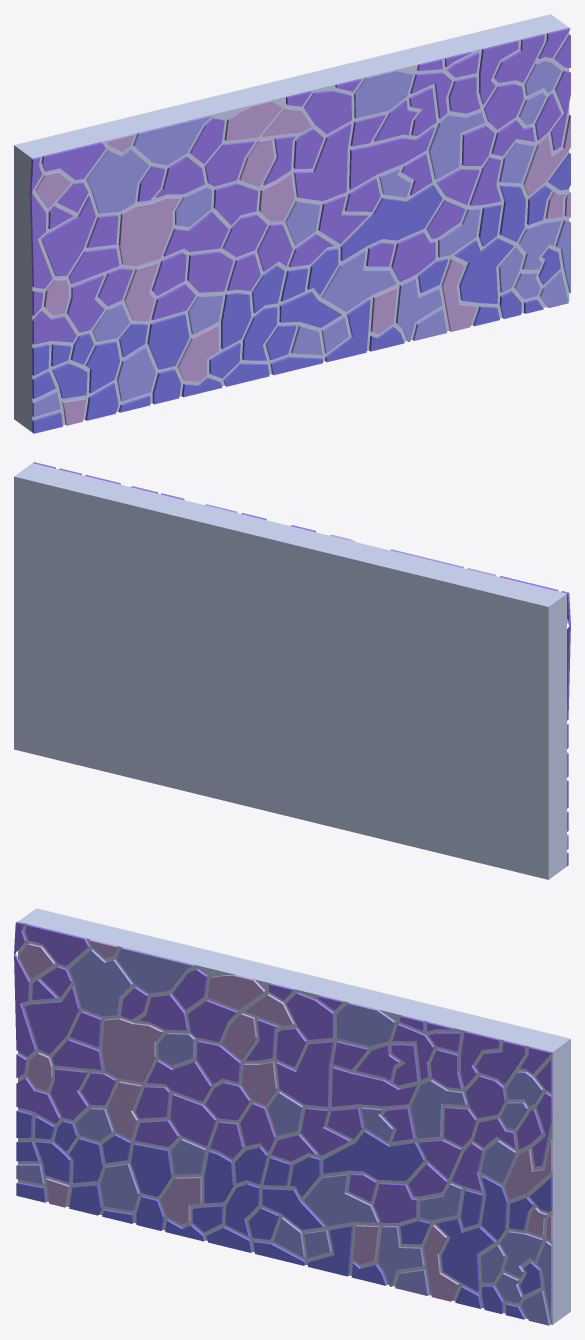
File: MOR_TEP_PAREDES_01_LADRILLOS.fbx
3 renders of one model, top to bottom at view 1: azimuth 30°, elevation 25°; view 2: azimuth 150°, elevation 25°; view 3: azimuth 330°, elevation 25°, orthographic.
Parts seen in each view (by area): view 1: MOR_TEP_PAREDES_01_LADRILLOS_LOD0; view 2: MOR_TEP_PAREDES_01_LADRILLOS_LOD0; view 3: MOR_TEP_PAREDES_01_LADRILLOS_LOD0.
Boxes of the visible parts, <box> form: MOR_TEP_PAREDES_01_LADRILLOS_LOD0: <box>14,14,570,433</box>; MOR_TEP_PAREDES_01_LADRILLOS_LOD0: <box>14,462,570,879</box>; MOR_TEP_PAREDES_01_LADRILLOS_LOD0: <box>14,908,570,1325</box>.
Size of what is drawn, in the model's own units: 395 by 192 by 25.36.
